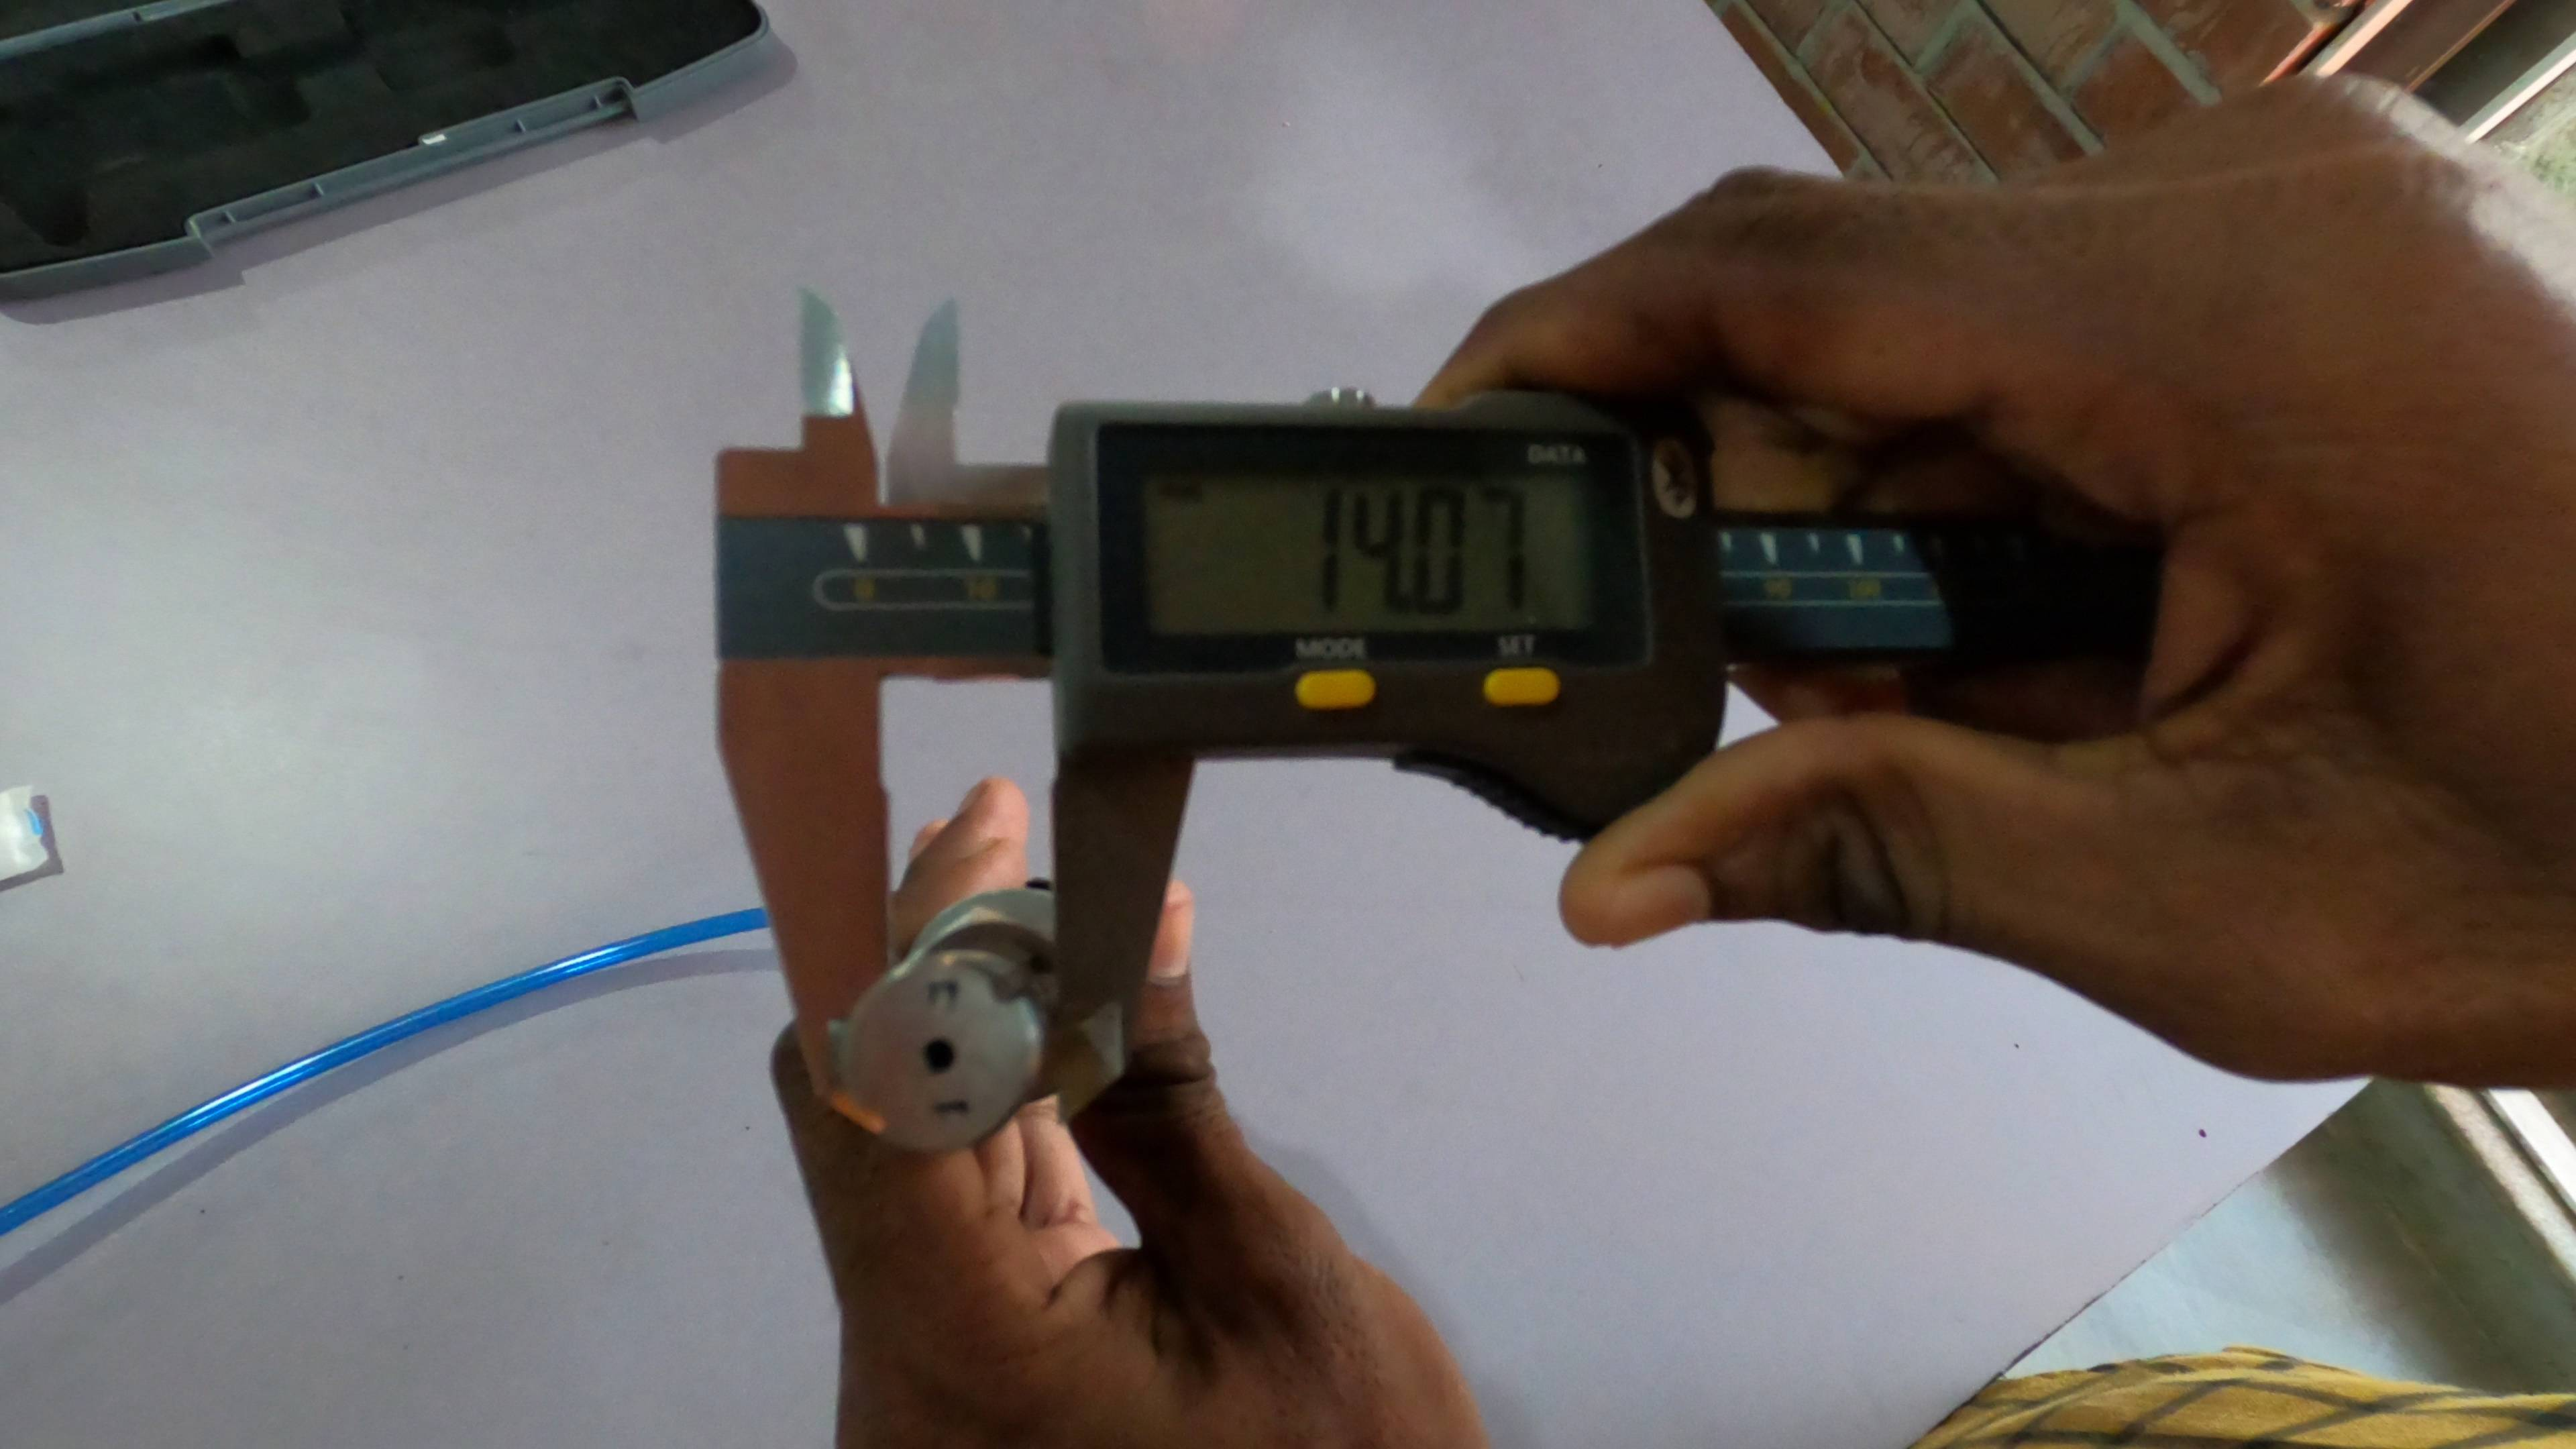vernier_caliper: (711, 278, 2139, 1152)
